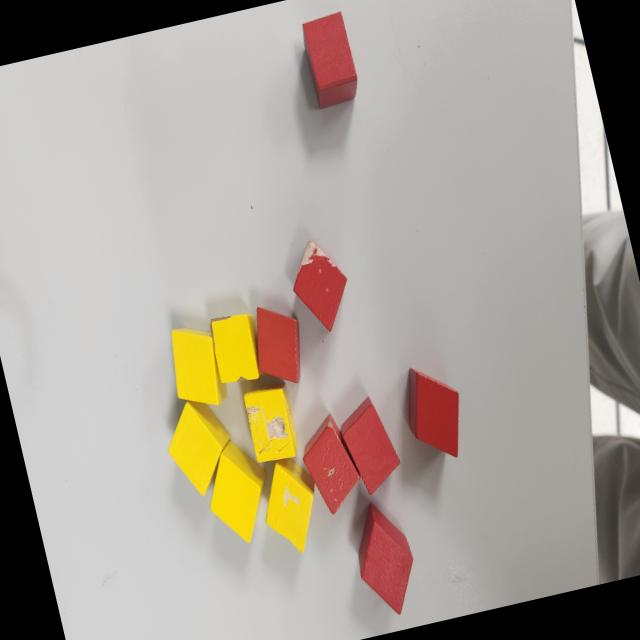broken: (282, 228, 359, 339), (292, 408, 368, 519), (252, 456, 326, 560), (205, 307, 269, 388), (240, 383, 302, 466)
red: (344, 496, 426, 622), (396, 357, 474, 468), (332, 390, 407, 500), (297, 10, 364, 111), (244, 298, 312, 392)
yellow: (194, 434, 280, 552), (157, 392, 243, 504), (161, 320, 229, 414)
